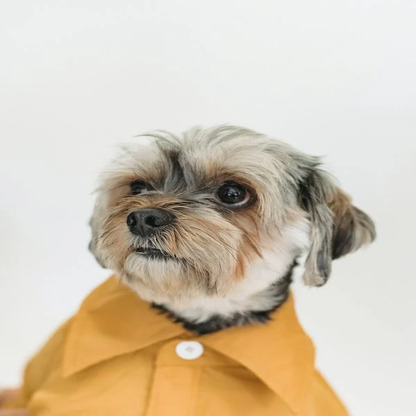yorkshire: (84, 123, 377, 315)
